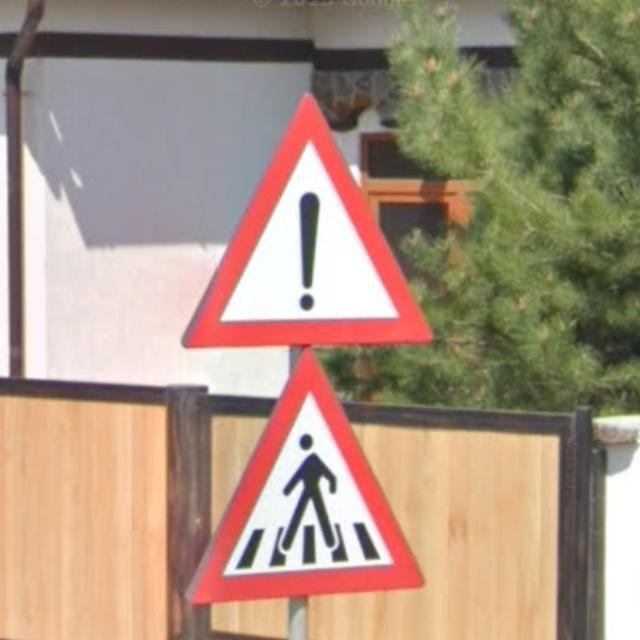warn_crosswalk: (177, 344, 431, 606)
